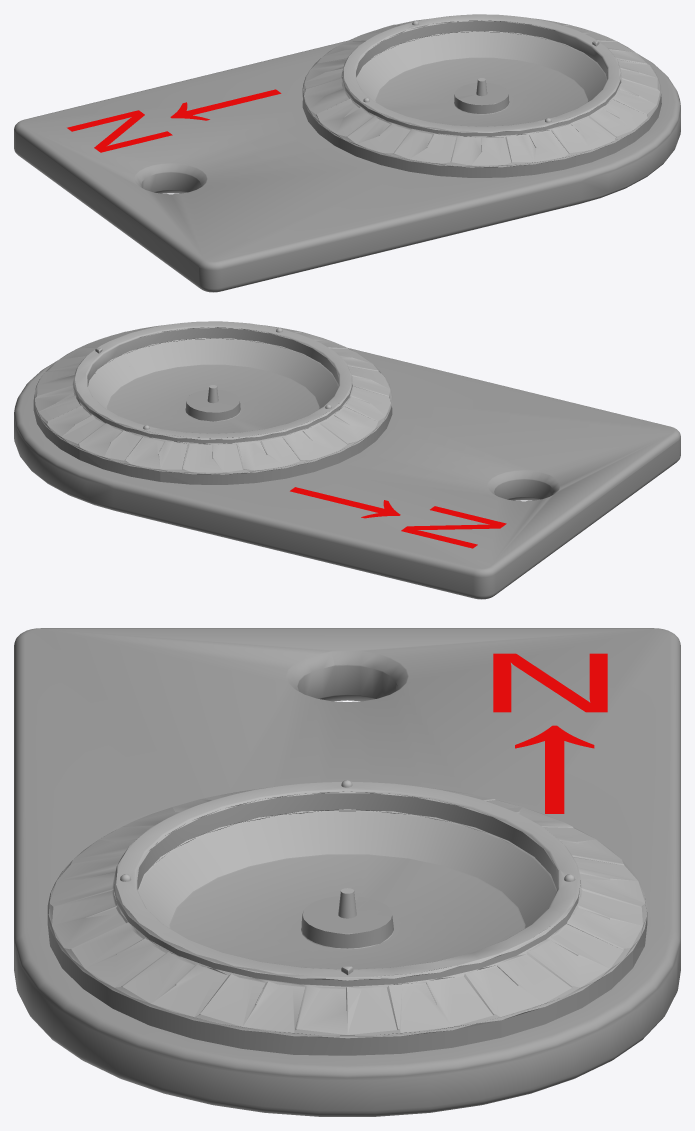
File: comp1.FBX
3 views of the same model, one above another, from view 1: azimuth 30°, elevation 25°; view 2: azimuth 150°, elevation 25°; view 3: azimuth 270°, elevation 25° (orthographic). The views are drawn at different scales.
Parts seen in each view (by area): view 1: Compass, 对象002, Text001, Text002; view 2: Compass, 对象002, Text001, Text002; view 3: Compass, 对象002, Text001, Text002.
Boxes of the visible parts, x1,y1,x2,y2 form: Compass: [14, 19, 680, 292]; 对象002: [304, 14, 659, 165]; Text001: [67, 110, 172, 152]; Text002: [170, 89, 281, 120]; Compass: [14, 325, 680, 599]; 对象002: [35, 321, 390, 472]; Text001: [401, 506, 506, 548]; Text002: [290, 487, 400, 518]; Compass: [14, 628, 680, 1116]; 对象002: [49, 780, 645, 1034]; Text001: [493, 653, 607, 712]; Text002: [515, 725, 594, 813].
Bounding box in the file's own units: 9.5 × 1.05 × 6.
